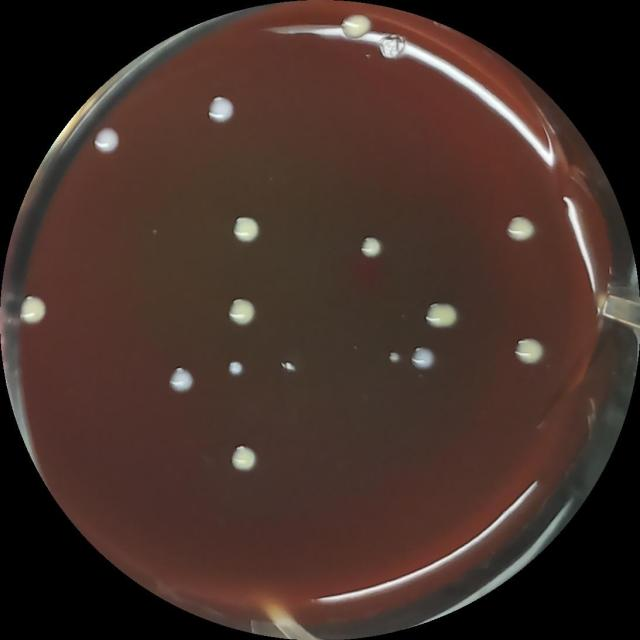Staphylococcus: (508, 332, 548, 373), (420, 297, 460, 337), (500, 211, 540, 251), (223, 292, 260, 330), (202, 92, 238, 129), (16, 290, 50, 328), (226, 440, 260, 477), (339, 10, 374, 44), (228, 212, 262, 247), (405, 341, 440, 375), (163, 361, 197, 395), (91, 124, 122, 158), (356, 232, 384, 261), (222, 354, 246, 381), (386, 348, 402, 365)
